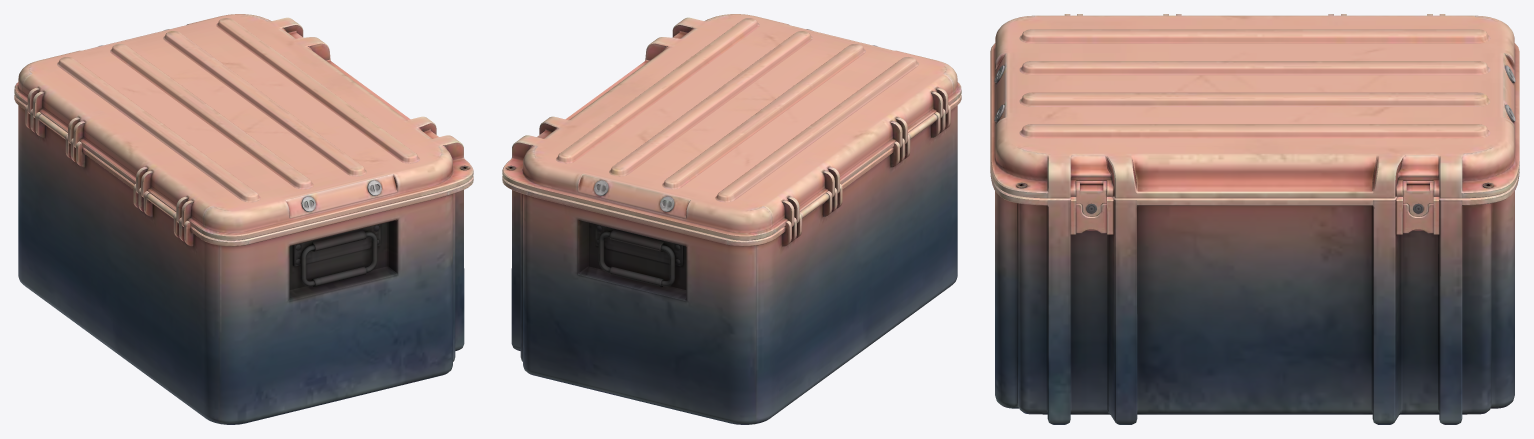
Rendered from csgo_drop_crate_community_30.glb.
The picture shows the model from 3 angles, left to right: view 1: azimuth 30°, elevation 25°; view 2: azimuth 150°, elevation 25°; view 3: azimuth 270°, elevation 25°; orthographic projection. The views are drawn at different scales.
Parts seen in each view (by area): view 1: models\props\crates\csgo_drop_crate_community_30.vmdl_c.csgo; view 2: models\props\crates\csgo_drop_crate_community_30.vmdl_c.csgo; view 3: models\props\crates\csgo_drop_crate_community_30.vmdl_c.csgo.
Boxes of the visible parts, <box> form: models\props\crates\csgo_drop_crate_community_30.vmdl_c.csgo: <box>14,14,473,424</box>; models\props\crates\csgo_drop_crate_community_30.vmdl_c.csgo: <box>502,14,961,424</box>; models\props\crates\csgo_drop_crate_community_30.vmdl_c.csgo: <box>990,14,1519,424</box>.
Bounding box in the file's own units: 0.8161 × 0.6169 × 1.12.
Materials: 3 (3 with a texture image).
